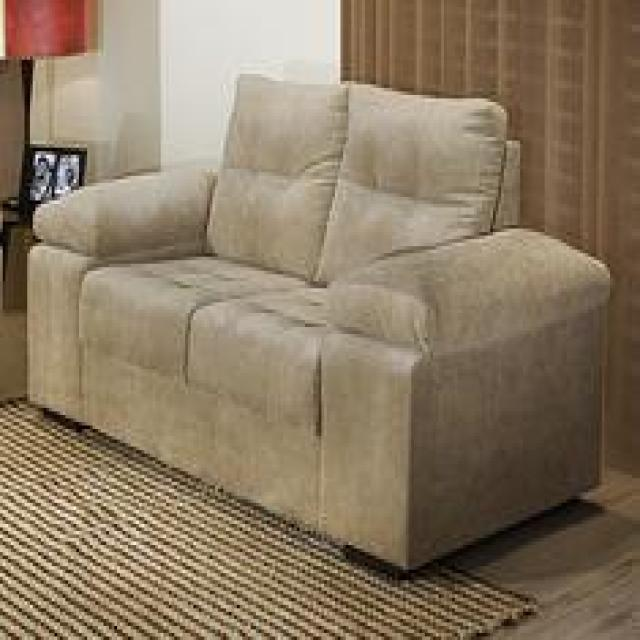sofa: (26, 67, 614, 582)
